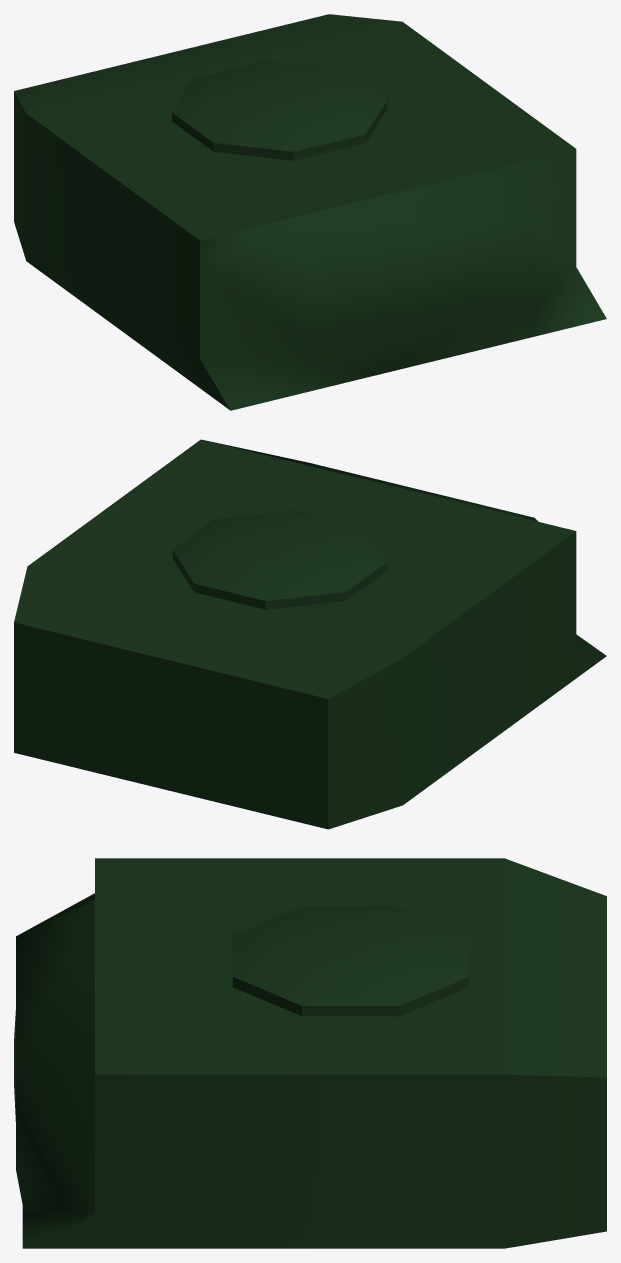
File: ShermanTurret.fbx
The picture shows the model from 3 angles, top to bottom: view 1: azimuth 30°, elevation 25°; view 2: azimuth 150°, elevation 25°; view 3: azimuth 270°, elevation 25°; orthographic projection. The views are drawn at different scales.
Parts seen in each view (by area): view 1: TurretCore001; view 2: TurretCore001; view 3: TurretCore001.
Boxes of the visible parts, box(x1,y1,x2,y2) form: TurretCore001: box(14, 14, 606, 410); TurretCore001: box(14, 439, 606, 829); TurretCore001: box(14, 858, 606, 1248).
Bounding box in the file's own units: 0.0508 × 0.0588 × 0.0214.
